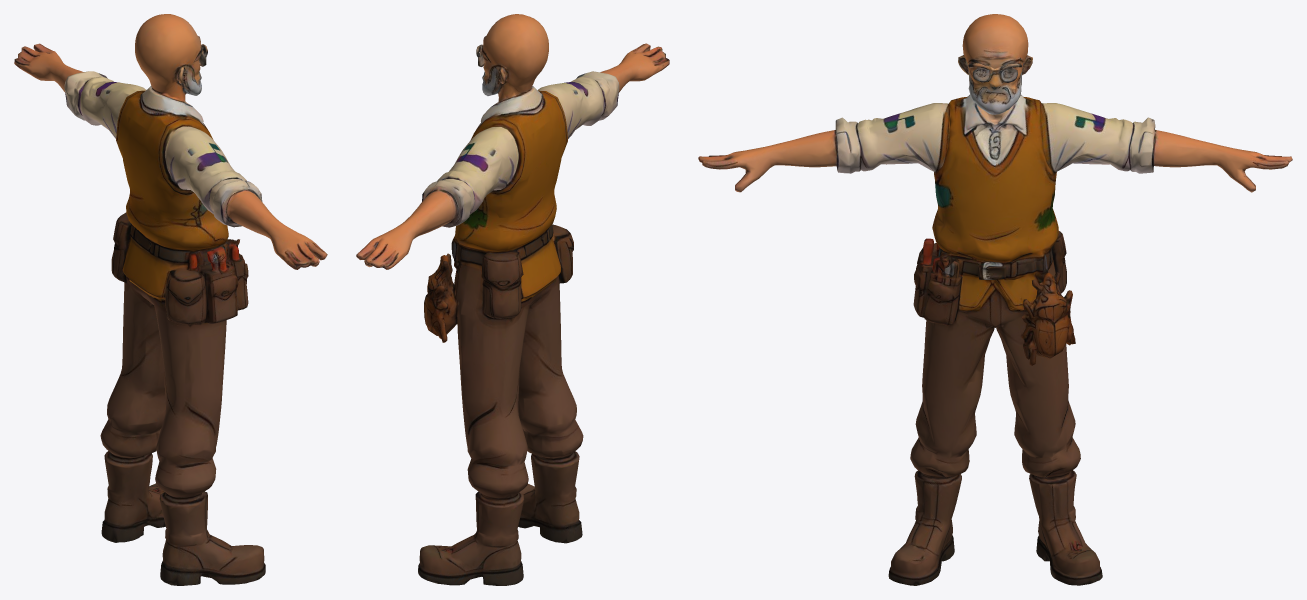
Rendered from n2_toymaker.875dd764.glb.
3 views of the same model, side by side, from view 1: azimuth 30°, elevation 25°; view 2: azimuth 150°, elevation 25°; view 3: azimuth 270°, elevation 25° (orthographic).
Visible parts, largest first — view 1: tripo_node_8eb21c62-35ae-4dee-88da-f5f43aa164f8; view 2: tripo_node_8eb21c62-35ae-4dee-88da-f5f43aa164f8; view 3: tripo_node_8eb21c62-35ae-4dee-88da-f5f43aa164f8.
Part boxes in pixels (bbox=[...]): tripo_node_8eb21c62-35ae-4dee-88da-f5f43aa164f8: bbox=[14, 14, 327, 585]; tripo_node_8eb21c62-35ae-4dee-88da-f5f43aa164f8: bbox=[356, 14, 669, 585]; tripo_node_8eb21c62-35ae-4dee-88da-f5f43aa164f8: bbox=[698, 14, 1292, 585].
Size of the model in its own units: 0.1939 by 0.9999 by 0.9899.
1 material, 1 textured.
